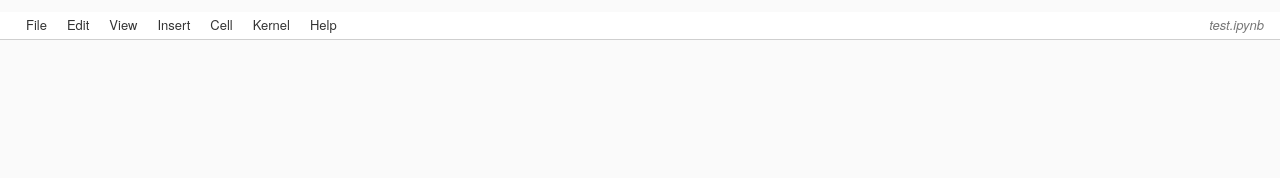
it: MenuBar › opens Kernel dropdown
Click the text "Kernel" at (271, 24), box [253,15,290,34]
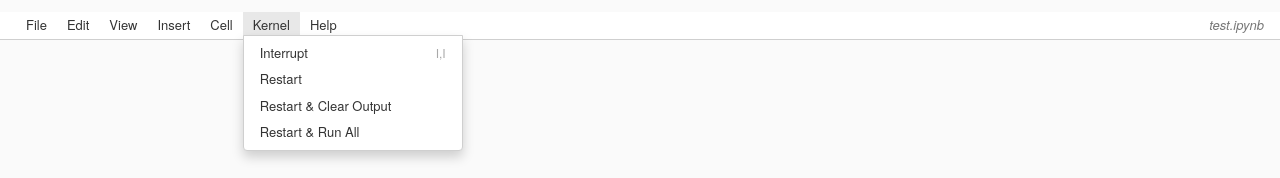
Result: the text "Interrupt" is shown at [260,44,308,62]
Result: the text "Restart" is shown at [260,70,302,89]
Result: the text "Restart & Clear Output" is shown at [260,97,391,115]
